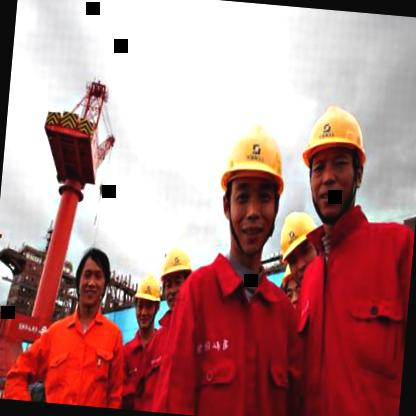head: (67, 246, 113, 314)
helmet: (204, 106, 294, 265), (292, 92, 378, 235), (273, 204, 329, 291), (156, 236, 196, 312), (130, 268, 165, 333)
